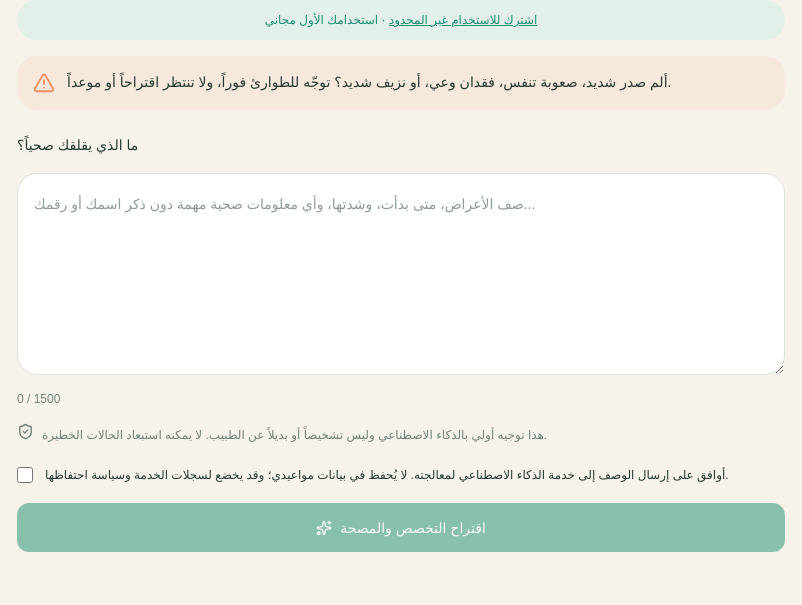
Test case: Automatic emergency screen › replaces the form, focuses urgent guidance and resets without resending
The image size is (802, 605).
Step 1. Replace the text in the text box labelled "ما الذي يقلقك صحياً؟" with "ألم شديد في الصدر مع صعوبة في التنفس" → x=401, y=274, box [17, 173, 785, 375]
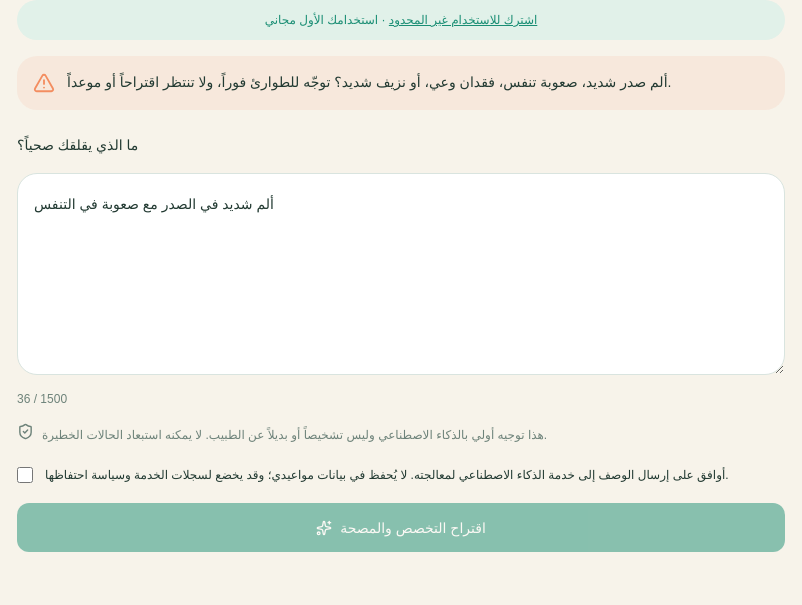
Step 2. Click the checkbox → x=25, y=475, box [17, 467, 33, 483]
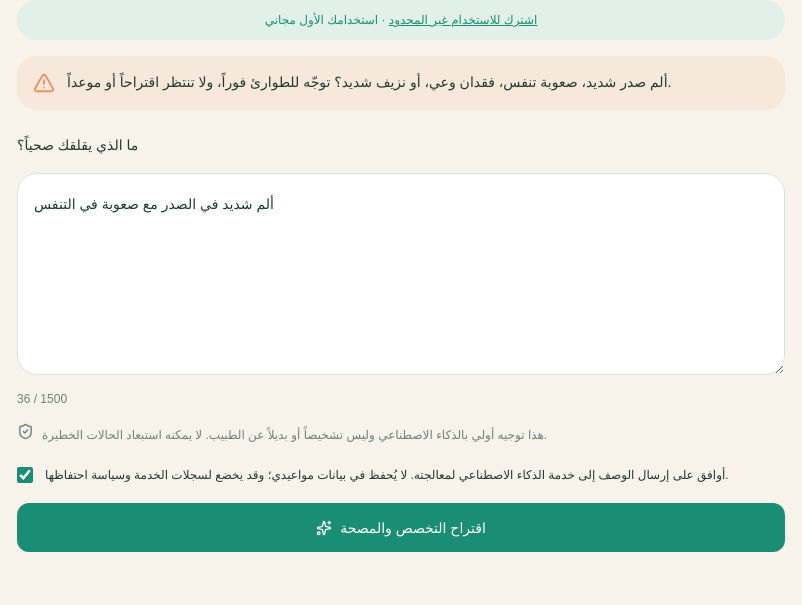
Step 3. Click the button "اقتراح التخصص والمصحة" → x=401, y=528, box [17, 503, 785, 552]
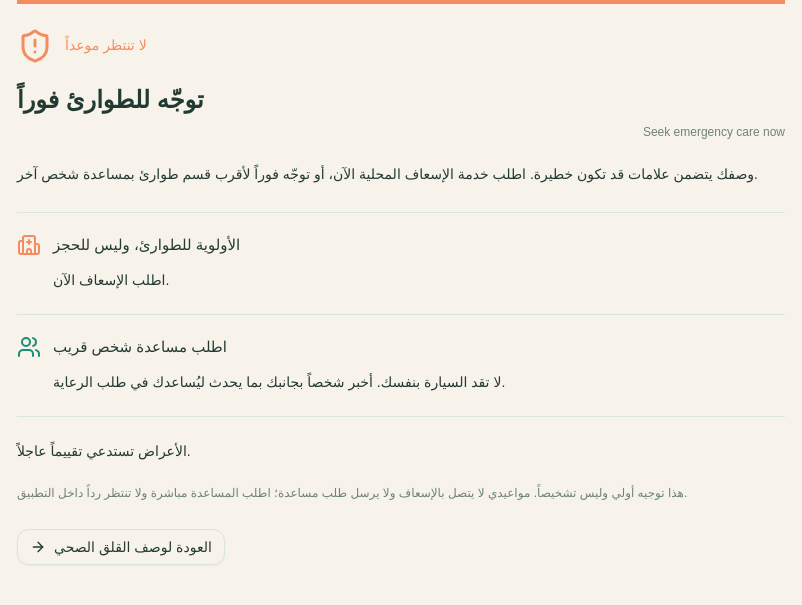
Result: the element named "شاشة الطوارئ" is shown
Result: the label labelled "ما الذي يقلقك صحياً؟" is gone
Step 4. Click the button "العودة لوصف القلق الصحي" → x=121, y=546, box [17, 528, 225, 564]
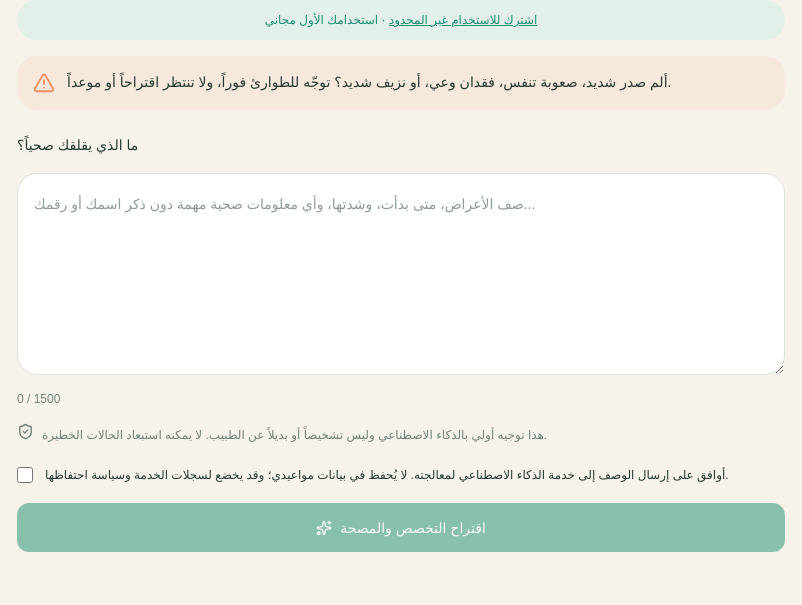
Result: the text box labelled "ما الذي يقلقك صحياً؟" is empty at [17, 173, 785, 375]
